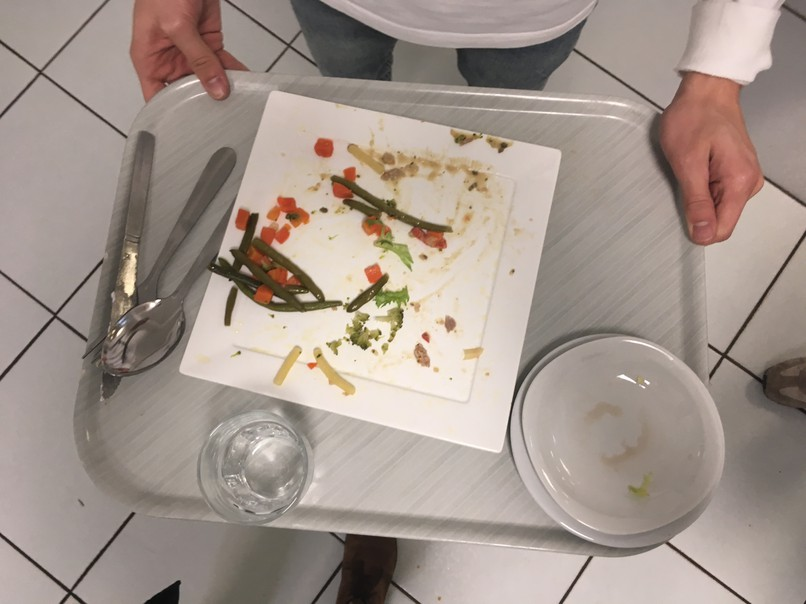cup: (197, 409, 319, 532)
cutlery: (90, 124, 223, 403)
orga: (227, 211, 331, 328), (328, 163, 448, 255), (355, 264, 410, 354)
